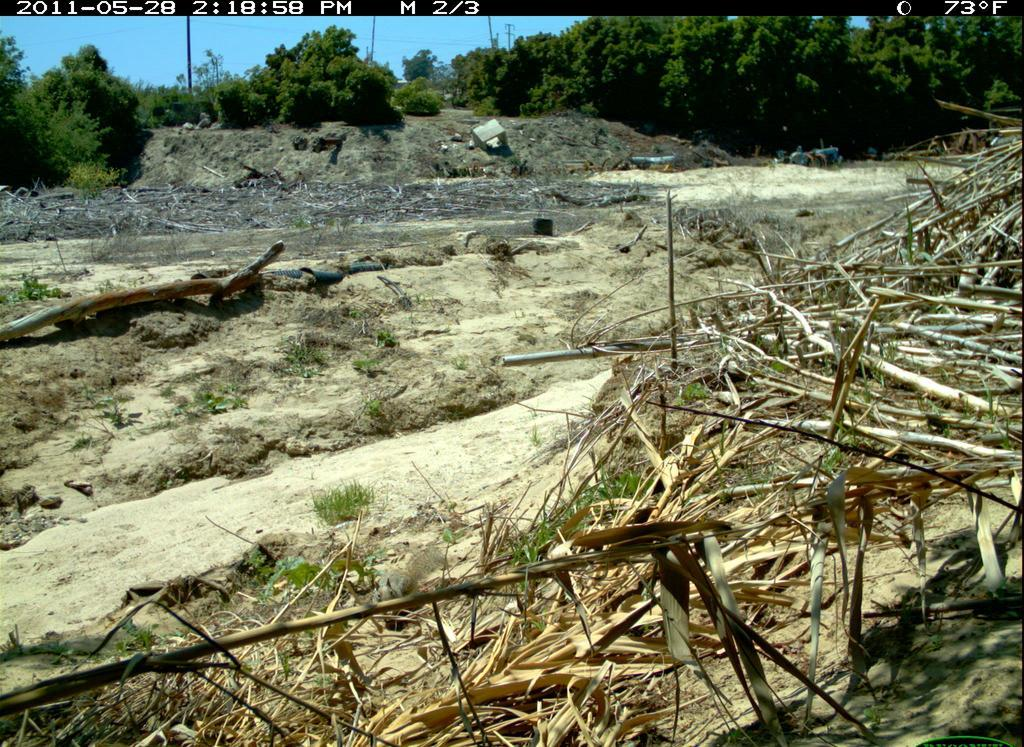squirrel: (370, 539, 441, 616)
